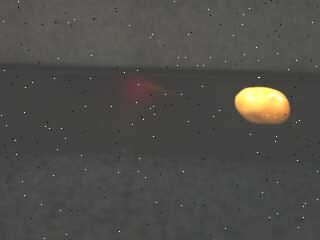Potato: (235, 86, 290, 126)
